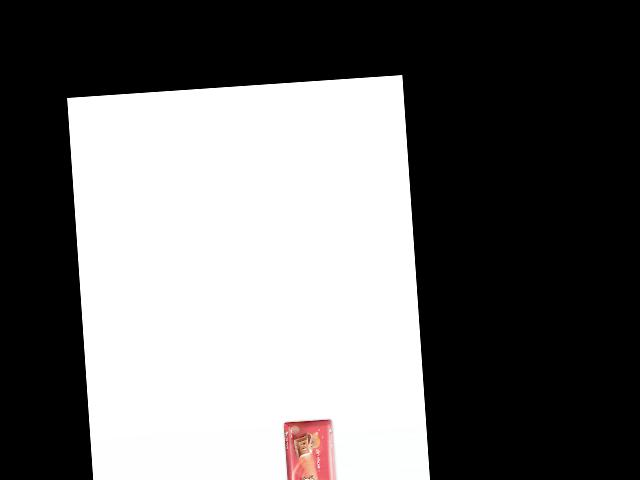chocolate: (279, 417, 339, 480)
